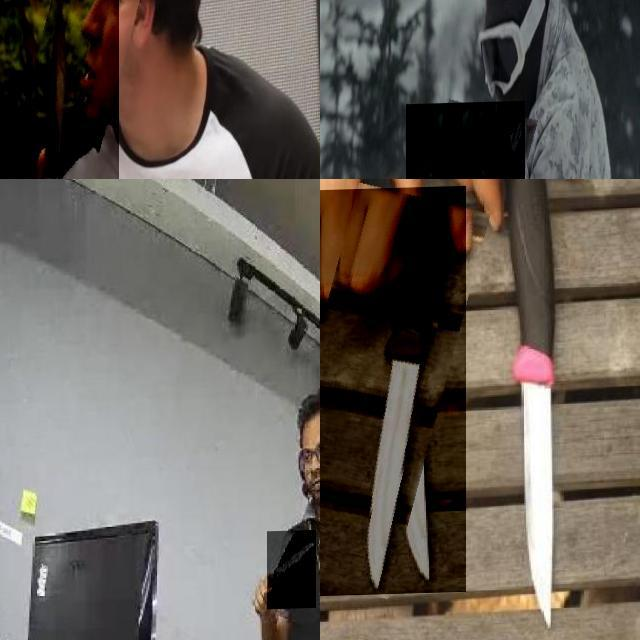-: (320, 187, 466, 597), (506, 280, 566, 640), (0, 0, 119, 179), (267, 532, 316, 611)
gun-knife-thesis - v11 Yolov5 augmented: (406, 103, 525, 179)
